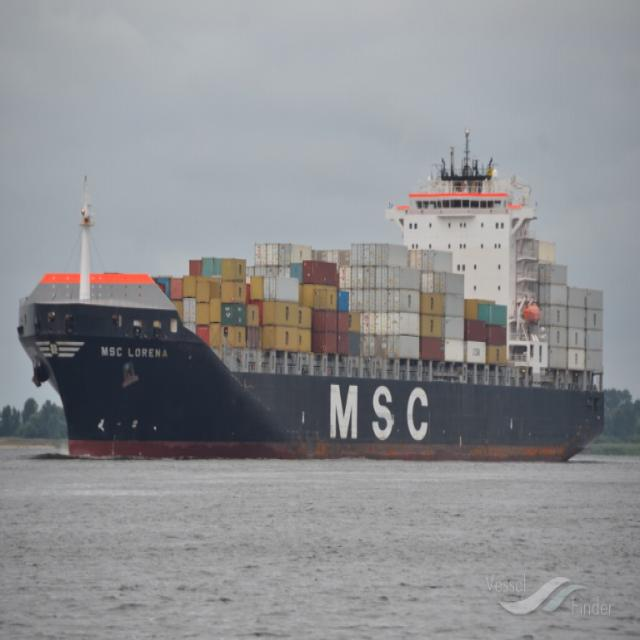Container Ship: (18, 130, 602, 459)
